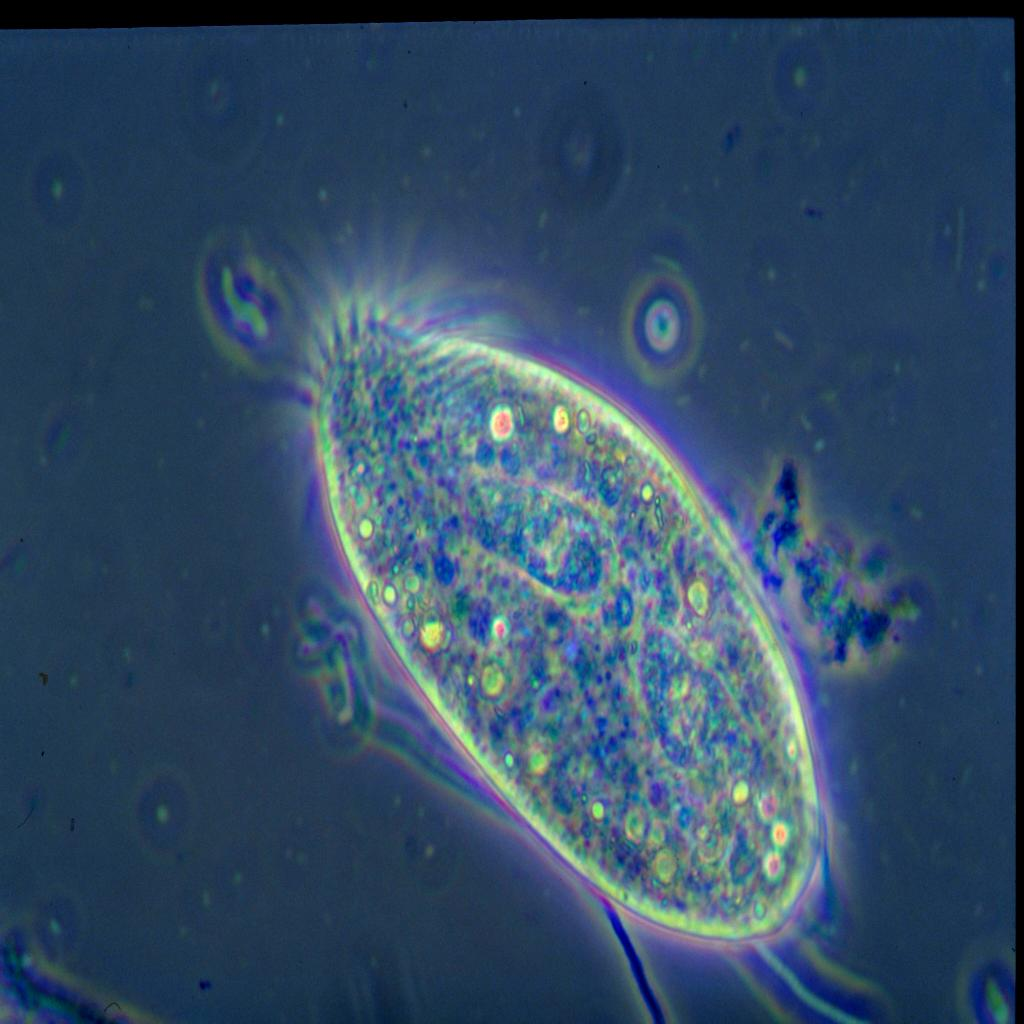Stylonychia: (249, 210, 852, 984)
